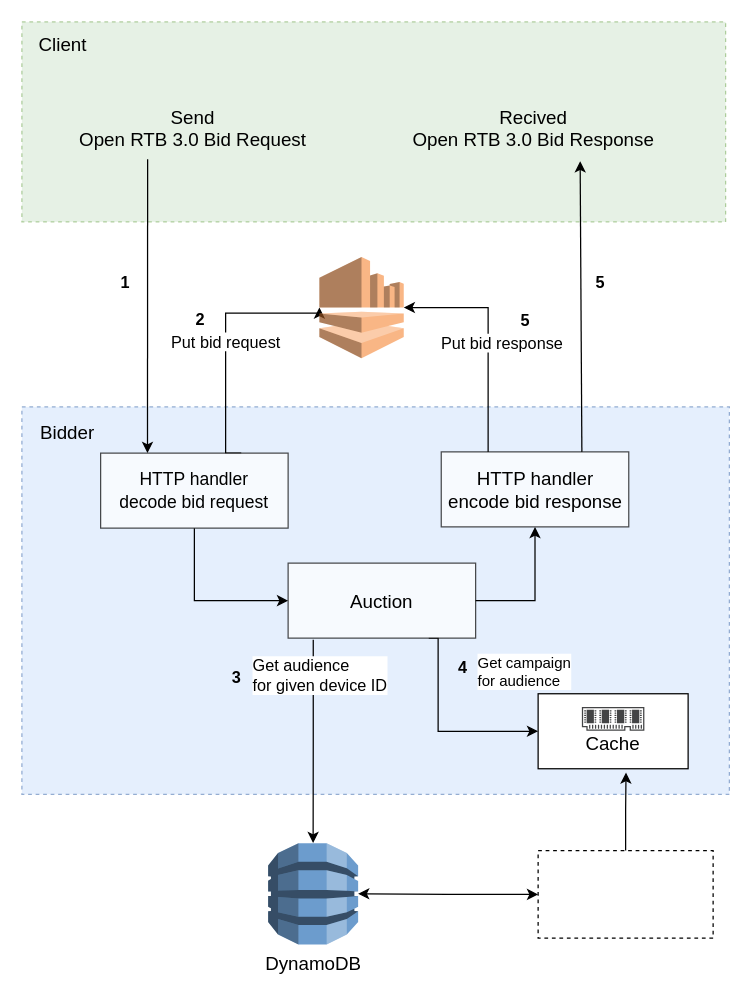
Some shapes in this 751 by 998 pixel diagram are drawn without their labels. Here are the shapes that lost their labels. From the top down, the box of each, then its label:
(318, 256, 404, 358): Kinesis stream
(537, 849, 713, 938): On bidder startup, we are population the cache with campaigns, audiences
